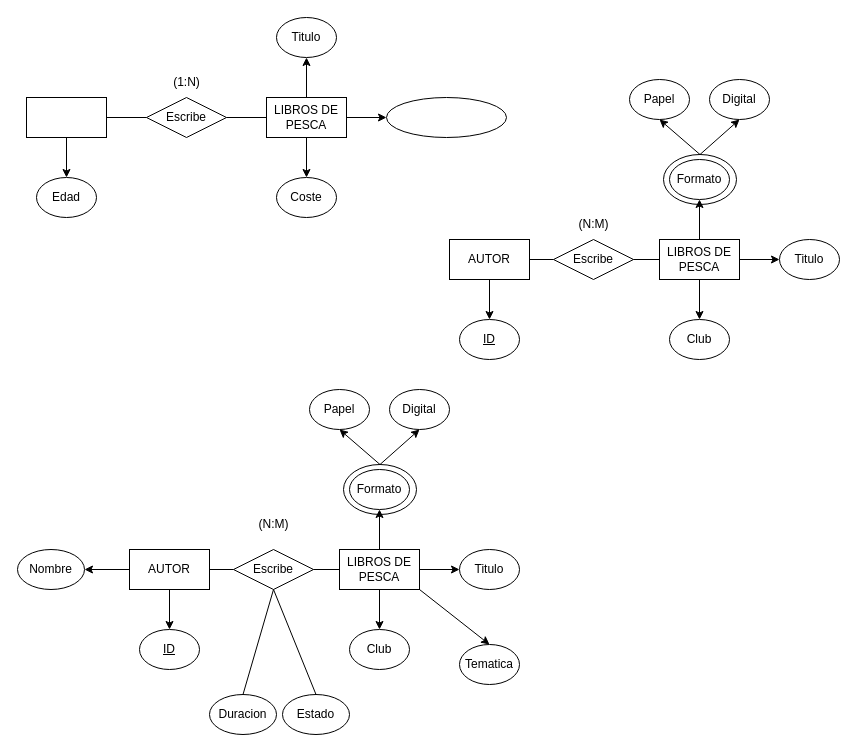
The diagram is 857 pixels wide and 752 high, and some of its shapes have lost their labels. Here are the shapes that lost their labels. From the top down, the box of each, then its label:
(26, 96, 106, 138): DANIEL
(386, 96, 506, 138): Fecha publicacion
